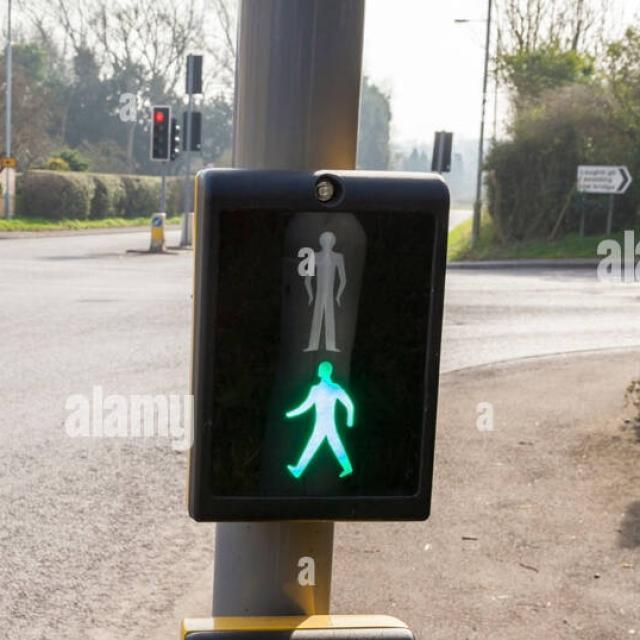geen-crossing: (262, 352, 374, 490)
